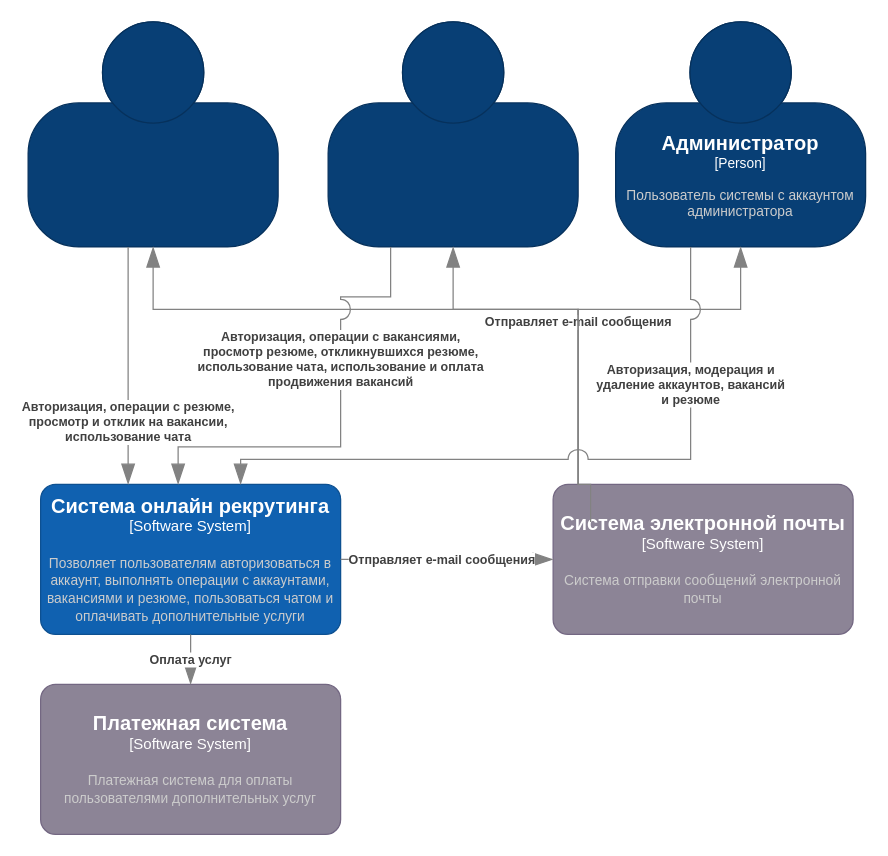
Some shapes in this 888 by 856 pixel diagram are drawn without their labels. The centre of each missing label's shape, as x and y in pixels:
Работодатель [Person] Пользователь системы с аккаунтом работодателя: point 452,134
Соискатель [Person] Пользователь системы с аккаунтом соискателя: point 152,134
